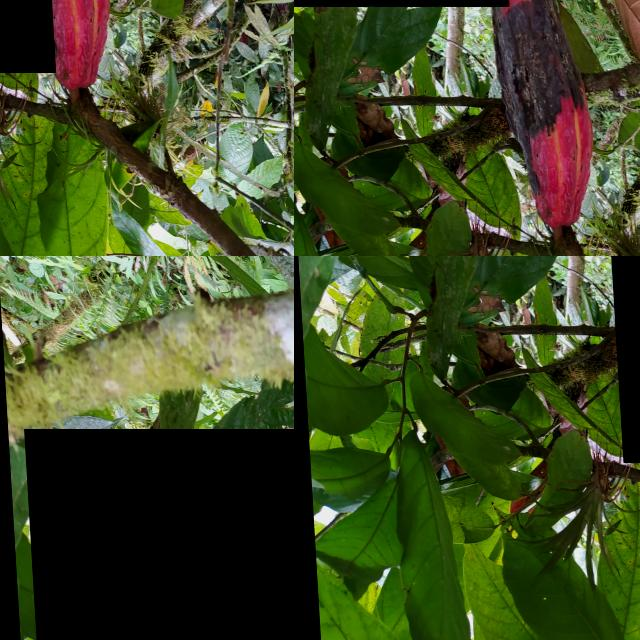Fitoftora: (603, 256, 640, 462)
Sana: (21, 429, 294, 640)
